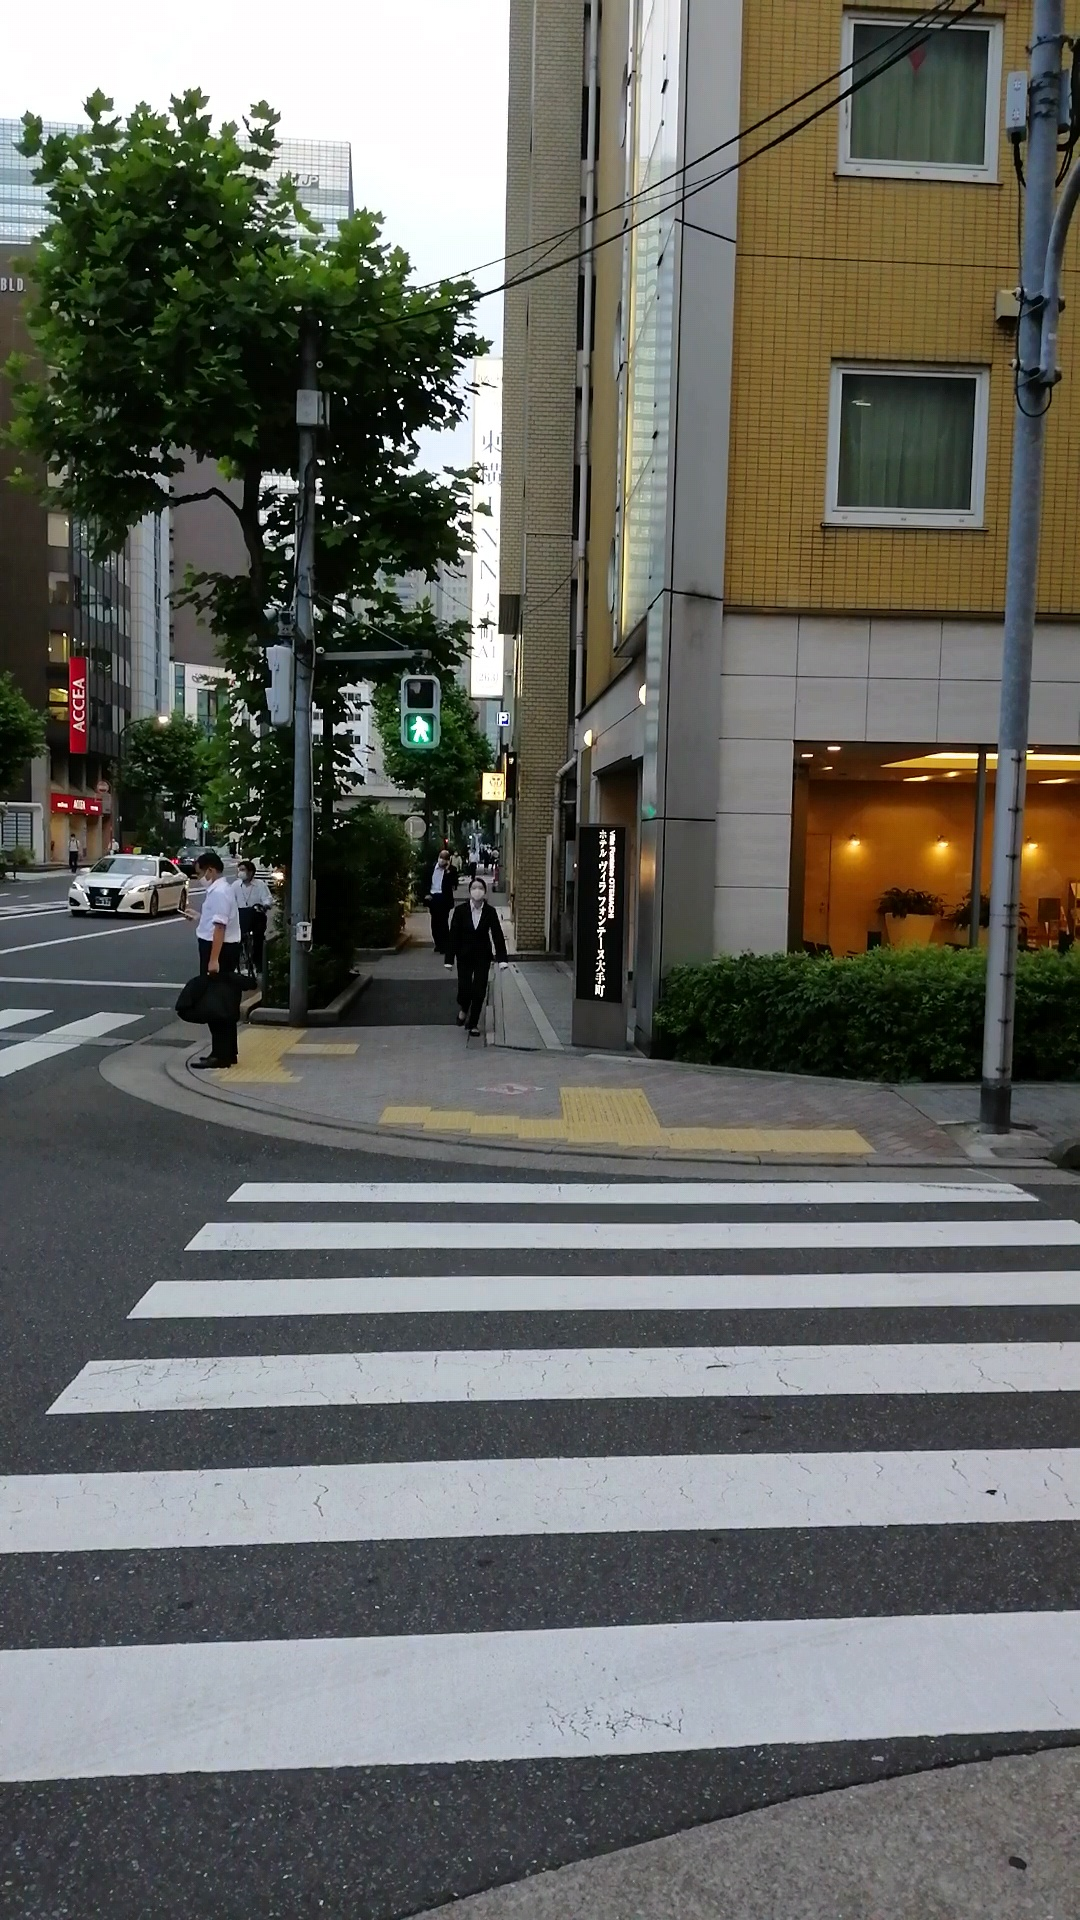green: (401, 674, 440, 748)
